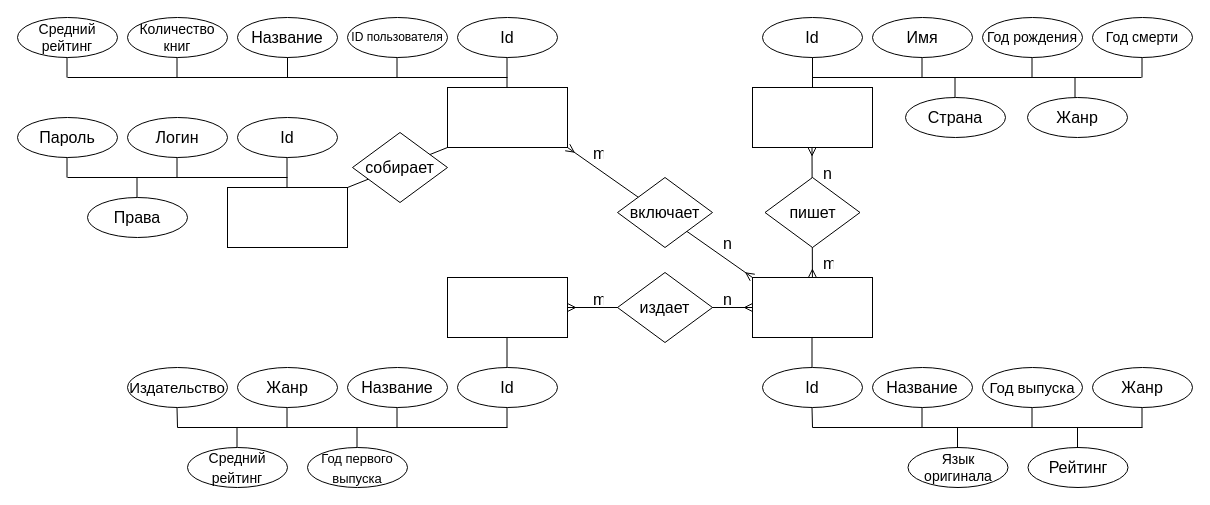
Image size: 1210x505. Some labels were removed from this diagram. The shapes that lost their labels are listed below. From the top down, each one's centre as x and y in pixels, then its label:
point 507,117: Книжная полка
point 812,117: Автор
point 287,217: Пользователь
point 507,307: Серия
point 812,307: Книга
